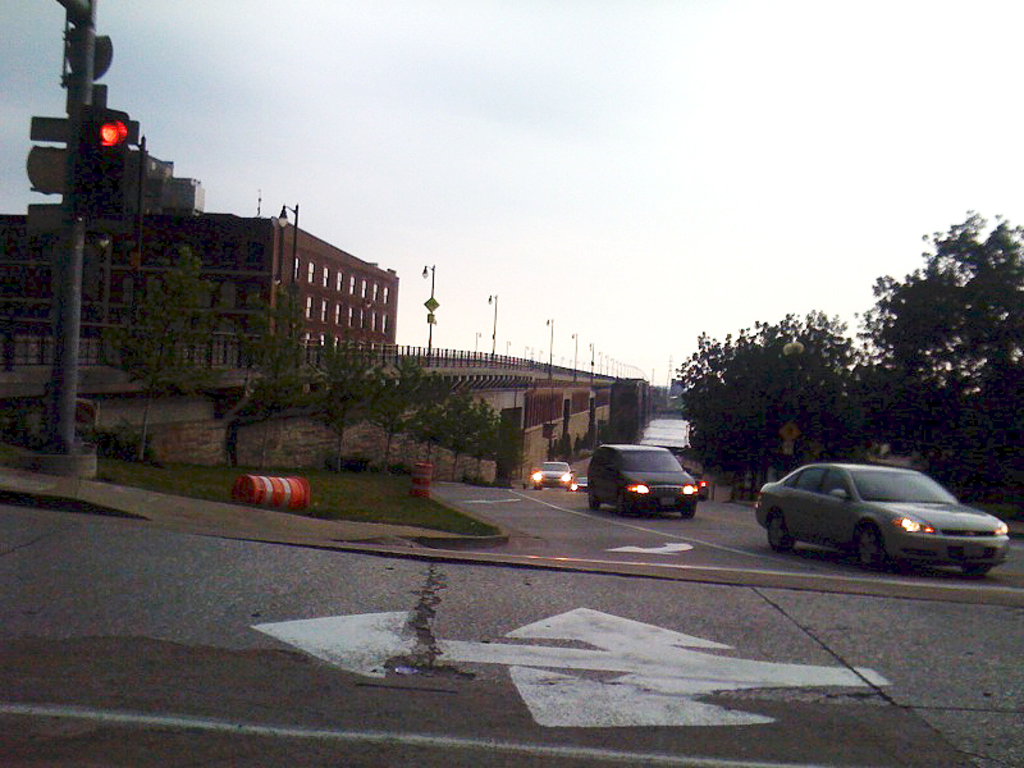red_light: (90, 114, 127, 228)
